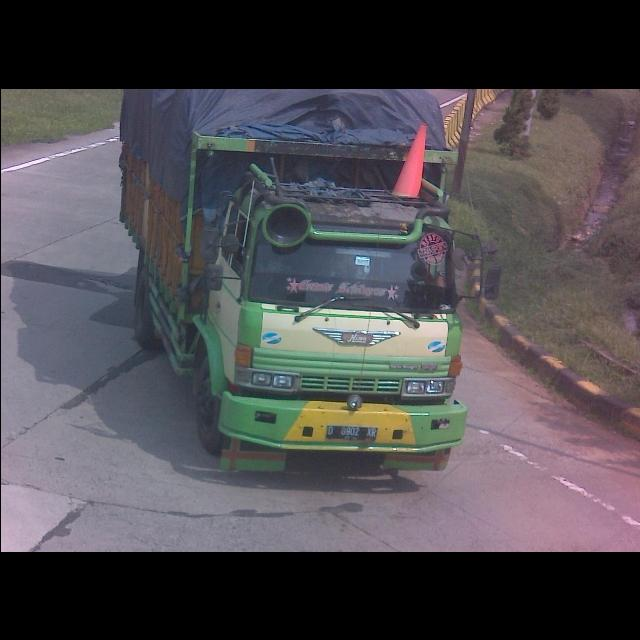plate: (326, 421, 380, 442)
